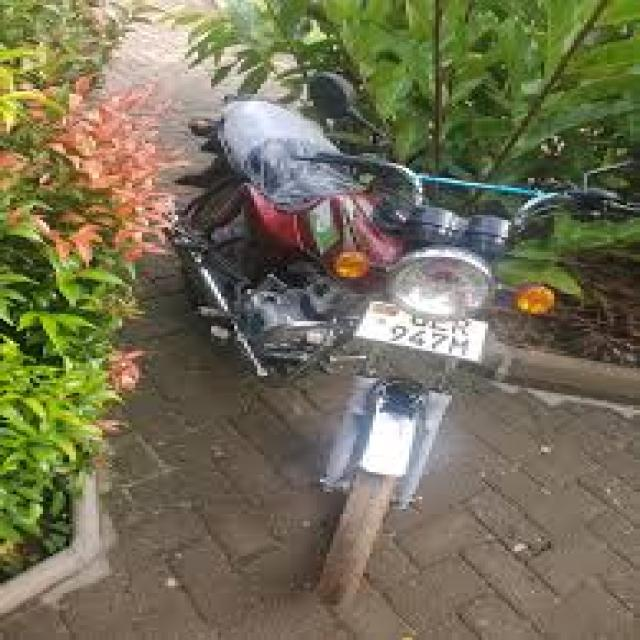bodaboda: (147, 25, 640, 621)
